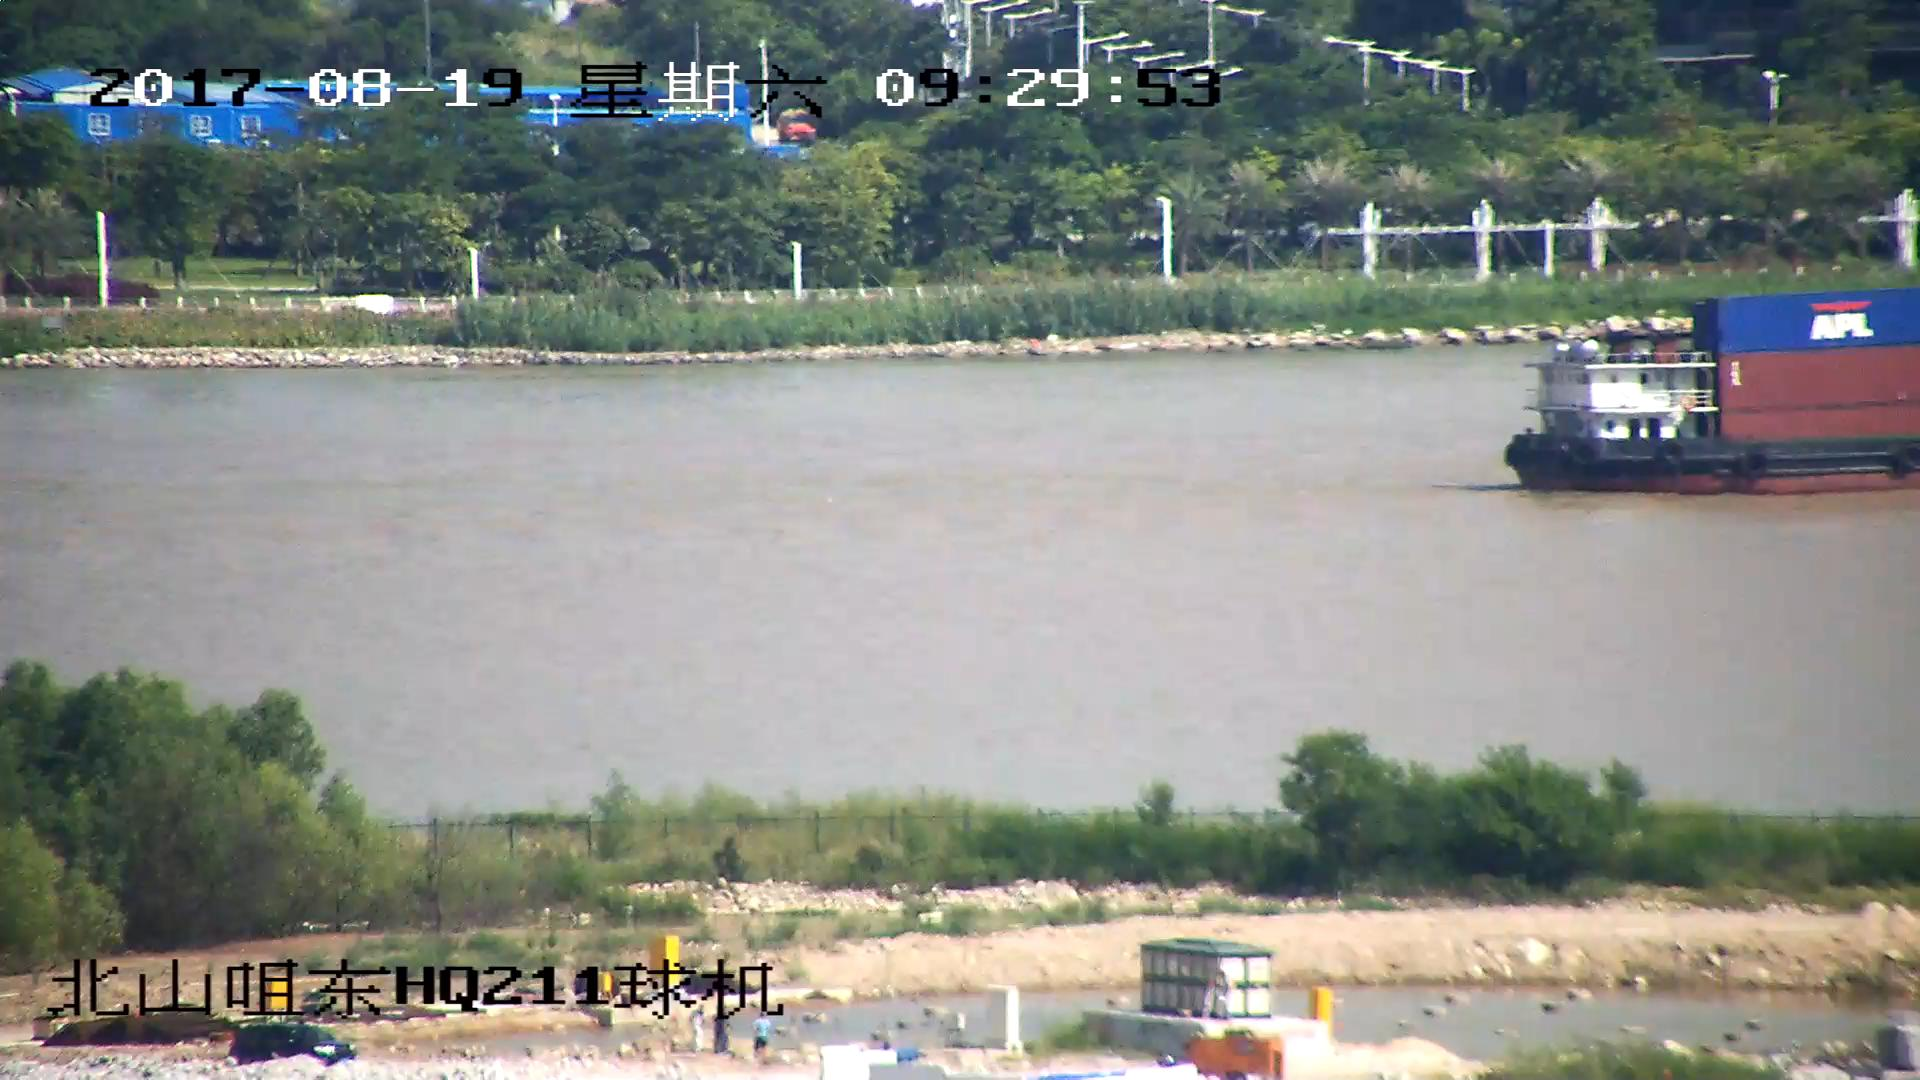container ship: (1505, 295, 1920, 494)
